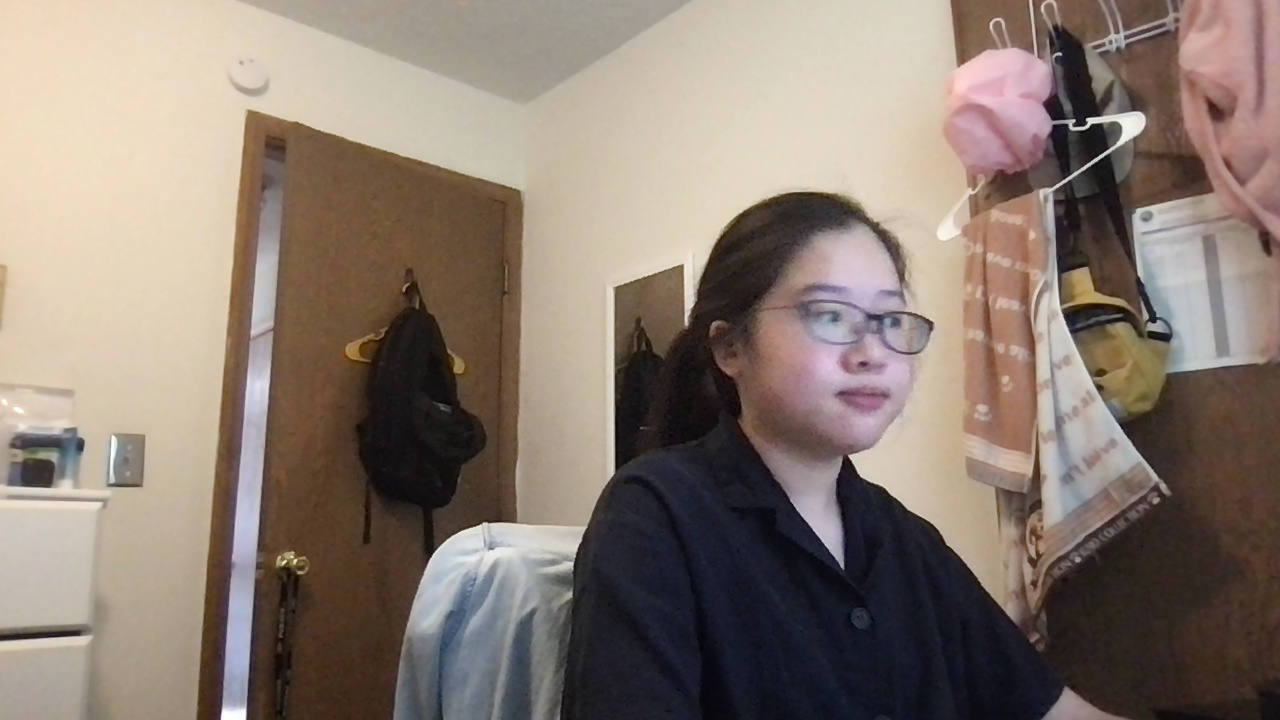NoMask: (744, 332, 923, 450)
